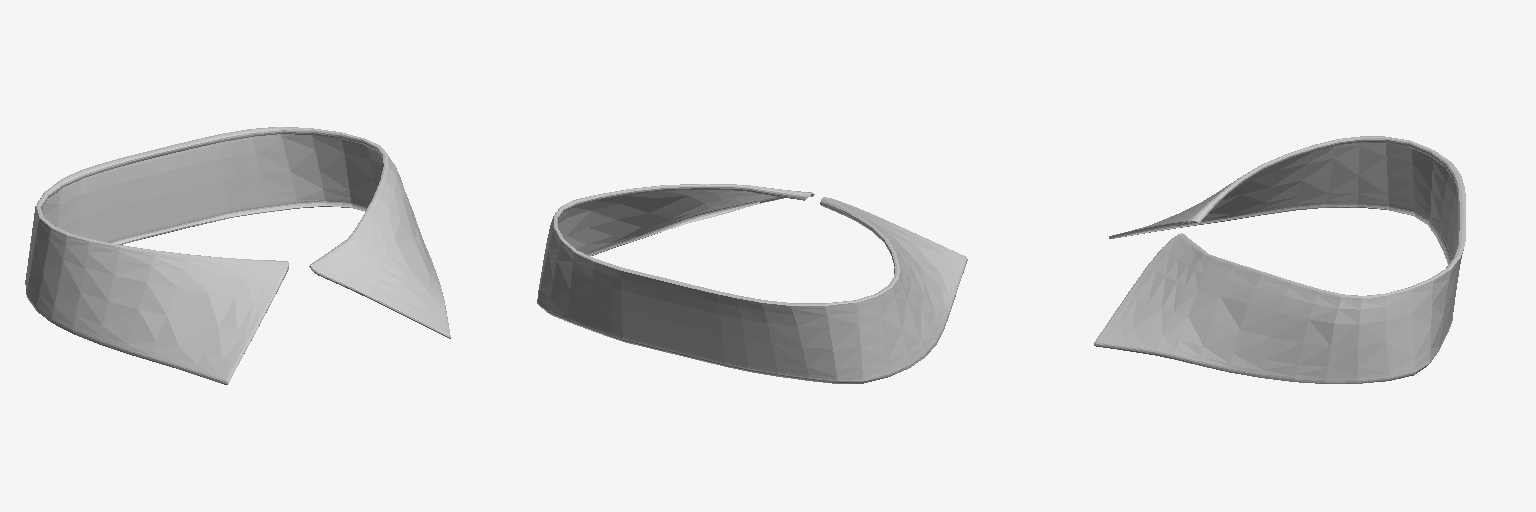
The model's file is Collar_outer.obj.
3 views of the same model, side by side, from view 1: azimuth 30°, elevation 25°; view 2: azimuth 150°, elevation 25°; view 3: azimuth 270°, elevation 25° (orthographic).
Visible parts, largest first — view 1: Object008.001; view 2: Object008.001; view 3: Object008.001.
Part boxes in pixels (x1,y1,x2,y2): Object008.001: (25, 127, 450, 384); Object008.001: (537, 184, 967, 383); Object008.001: (1094, 136, 1465, 383).
Bounding box in the file's own units: 20.65 × 4.45 × 18.42.